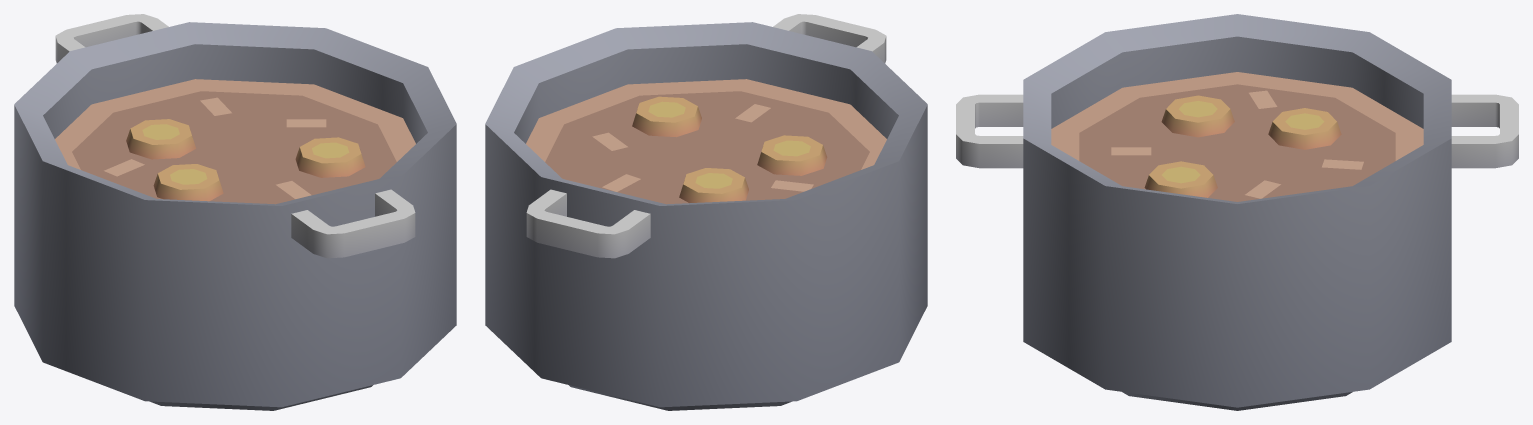
Rendered from pot-stew.glb.
3 views of the same model, side by side, from view 1: azimuth 30°, elevation 25°; view 2: azimuth 150°, elevation 25°; view 3: azimuth 270°, elevation 25° (orthographic).
Parts seen in each view (by area): view 1: pot-stew; view 2: pot-stew; view 3: pot-stew.
Boxes of the visible parts, bbox=[...] form: pot-stew: bbox=[14, 14, 456, 410]; pot-stew: bbox=[485, 14, 927, 410]; pot-stew: bbox=[956, 14, 1518, 410].
Bounding box in the file's own units: 0.6574 × 0.3608 × 0.8221.
